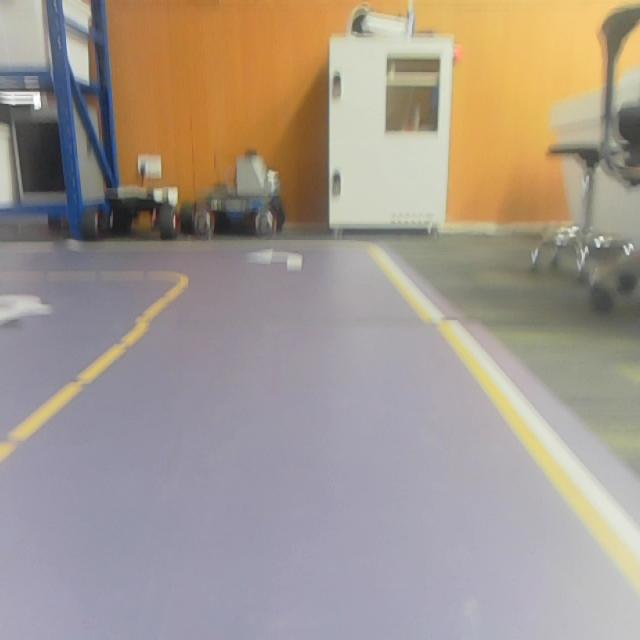left_lane: (0, 279, 188, 467)
right_lane: (373, 252, 640, 597)
